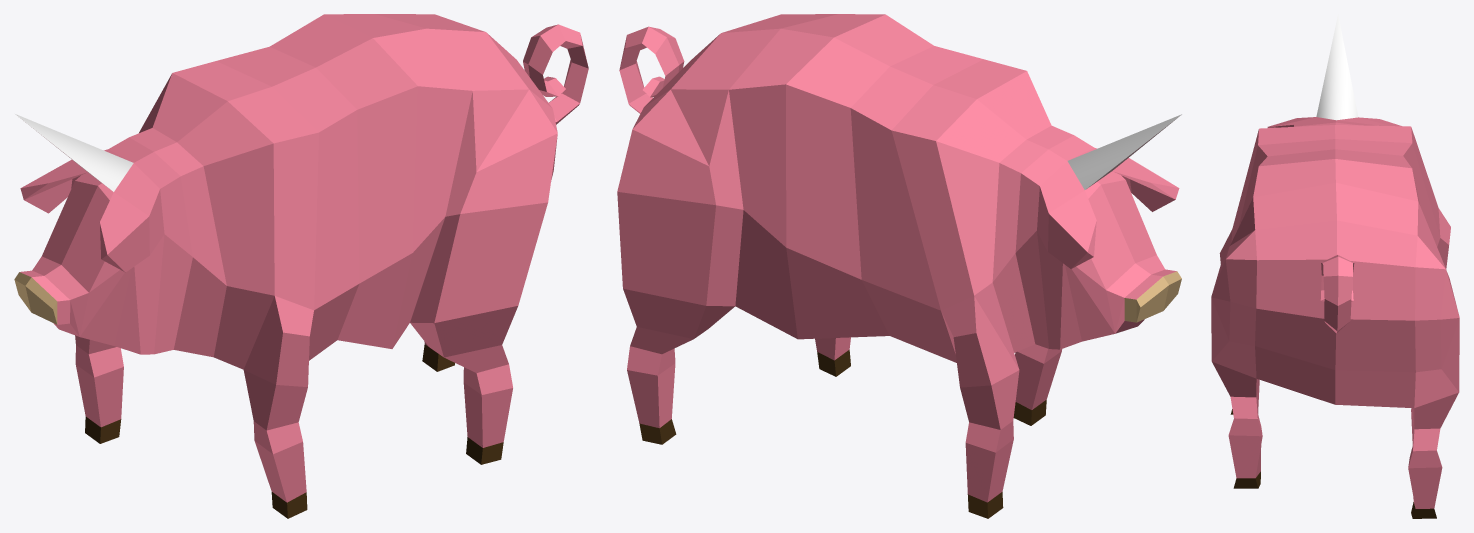
File: pigWalking14.obj
The picture shows the model from 3 angles, left to right: view 1: azimuth 30°, elevation 25°; view 2: azimuth 150°, elevation 25°; view 3: azimuth 270°, elevation 25°; orthographic projection. The views are drawn at different scales.
Parts seen in each view (by area): view 1: Pig_Cylinder; view 2: Pig_Cylinder; view 3: Pig_Cylinder.
Boxes of the visible parts, x1,y1,x2,y2 form: Pig_Cylinder: [14, 14, 588, 518]; Pig_Cylinder: [617, 14, 1181, 518]; Pig_Cylinder: [1211, 14, 1459, 518].
Size of the model in its own units: 23.17 by 15.74 by 11.11.
